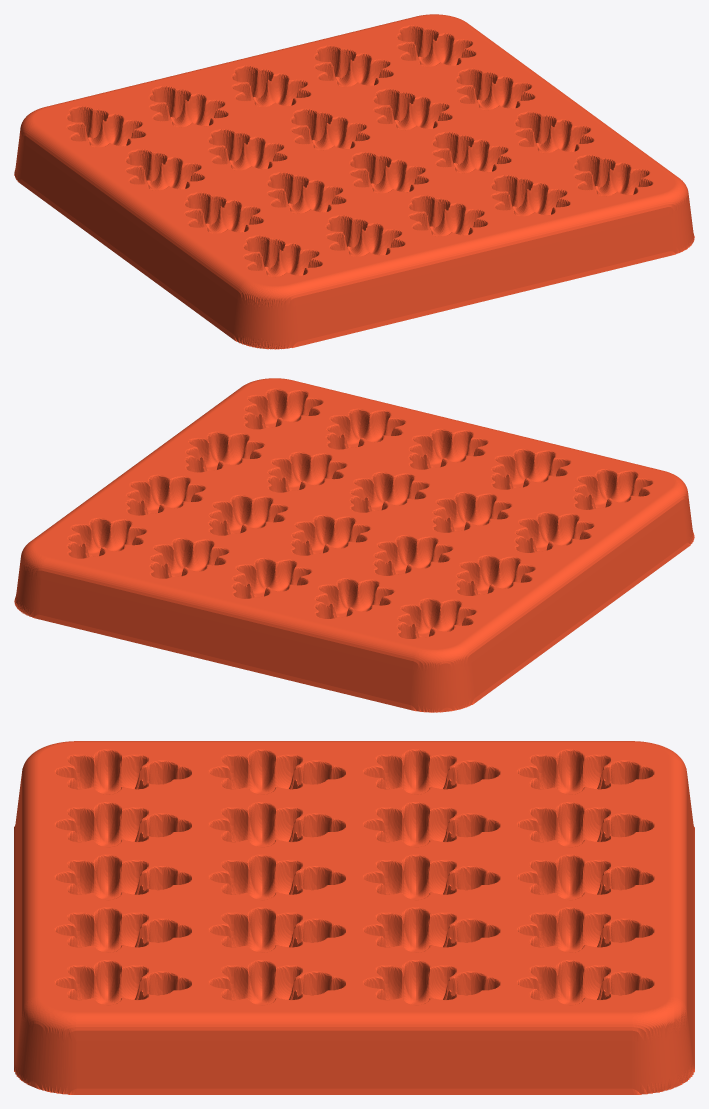
Rendered from mold.glb.
3 renders of one model, top to bottom at view 1: azimuth 30°, elevation 25°; view 2: azimuth 150°, elevation 25°; view 3: azimuth 270°, elevation 25°, orthographic. The views are drawn at different scales.
Parts seen in each view (by area): view 1: geometry_0; view 2: geometry_0; view 3: geometry_0.
Boxes of the visible parts, box(x1,y1,x2,y2) form: geometry_0: box(14, 14, 694, 349); geometry_0: box(14, 378, 694, 712); geometry_0: box(14, 741, 694, 1094).
Size of the model in its own units: 0.0982 by 0.0114 by 0.0972.
